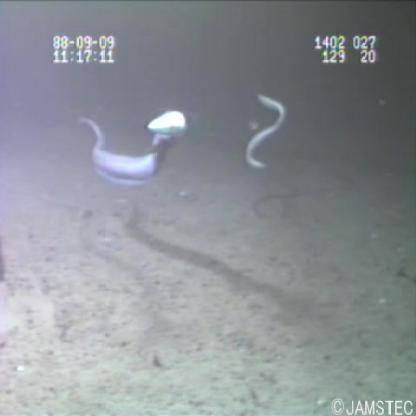Bio: (67, 102, 195, 196), (239, 87, 290, 185)
